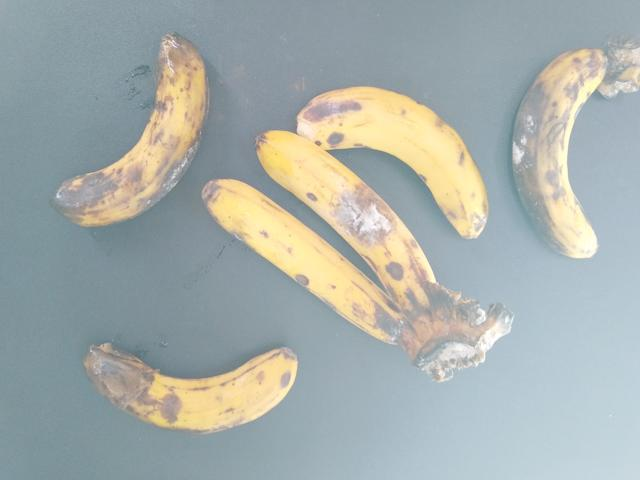overripe: (287, 57, 508, 215), (273, 112, 443, 289), (201, 183, 394, 330)
rotten: (42, 27, 209, 245), (69, 330, 321, 471), (510, 20, 633, 281)
